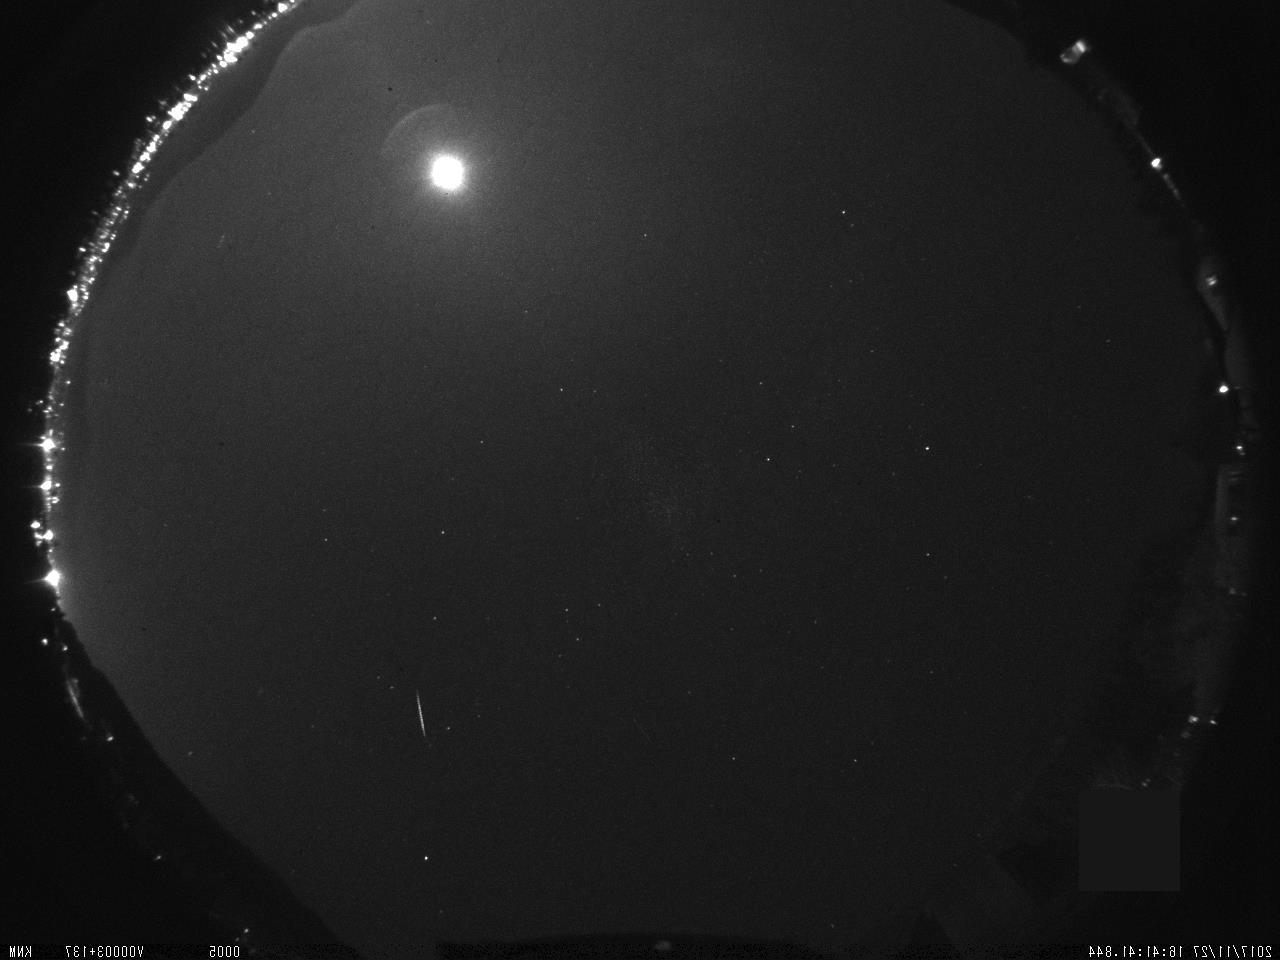meteor: (409, 682, 437, 752)
